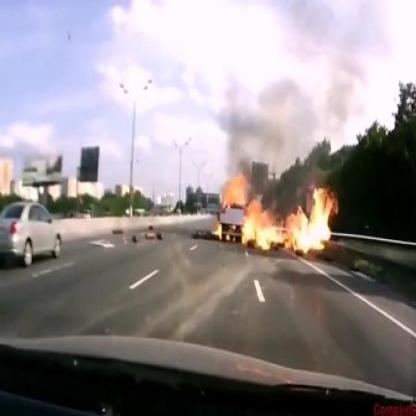fire: (205, 162, 339, 261)
